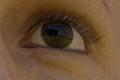eye: (41, 23, 72, 48)
